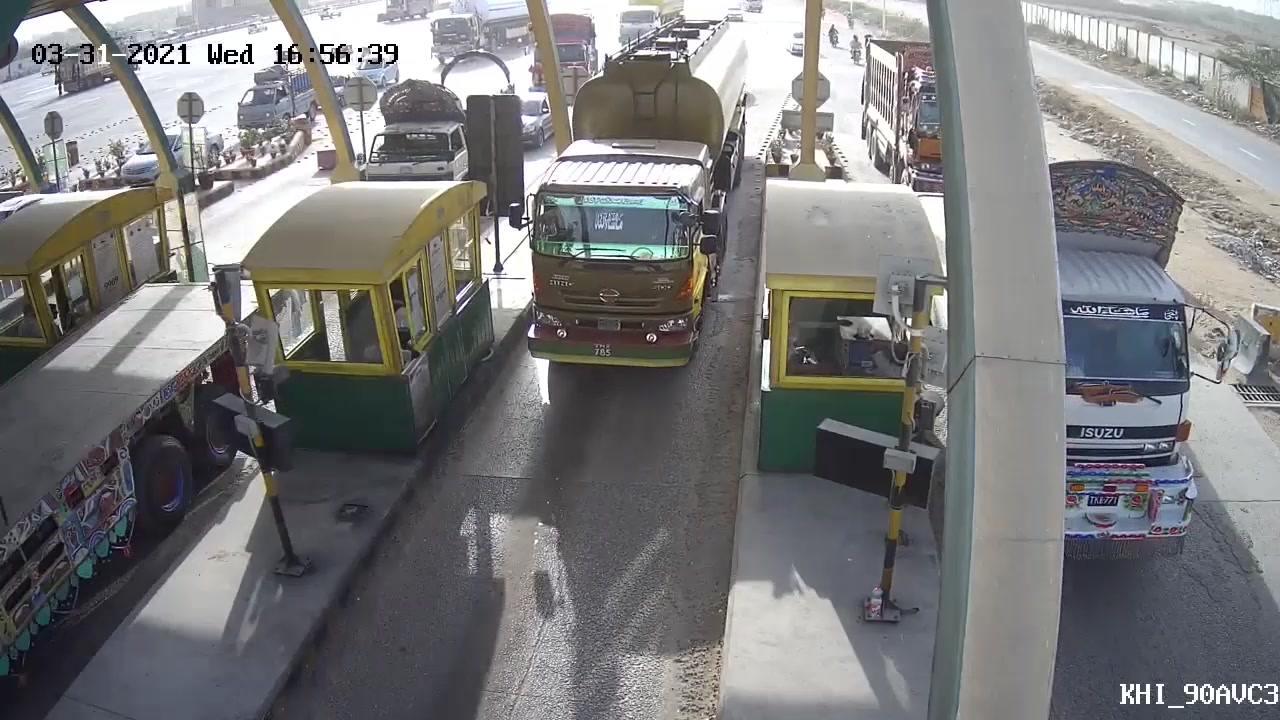F6: (519, 8, 756, 391)
